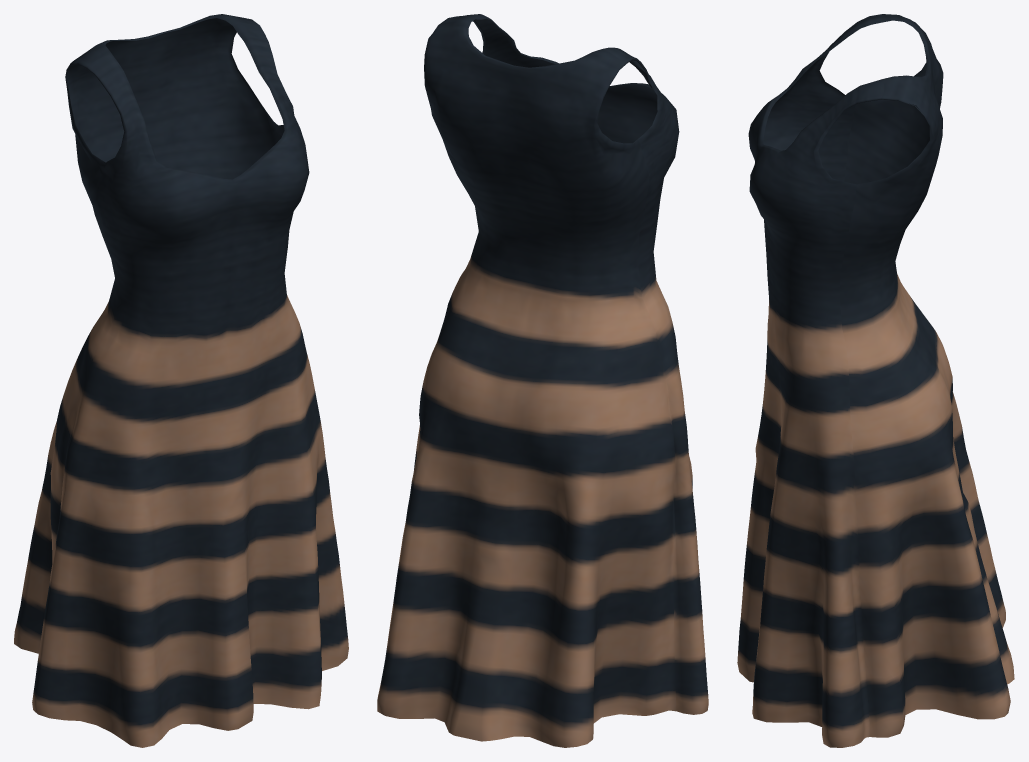
3 views of the same model, side by side, from view 1: azimuth 30°, elevation 25°; view 2: azimuth 150°, elevation 25°; view 3: azimuth 270°, elevation 25° (orthographic). The views are drawn at different scales.
Visible parts, largest first — view 1: Dress; view 2: Dress; view 3: Dress.
Part boxes in pixels (box(x1,y1,x2,y2)): Dress: box(14, 14, 348, 747); Dress: box(377, 14, 708, 747); Dress: box(737, 14, 1014, 747).
Size of the model in its own units: 49.45 by 99.69 by 39.54.
